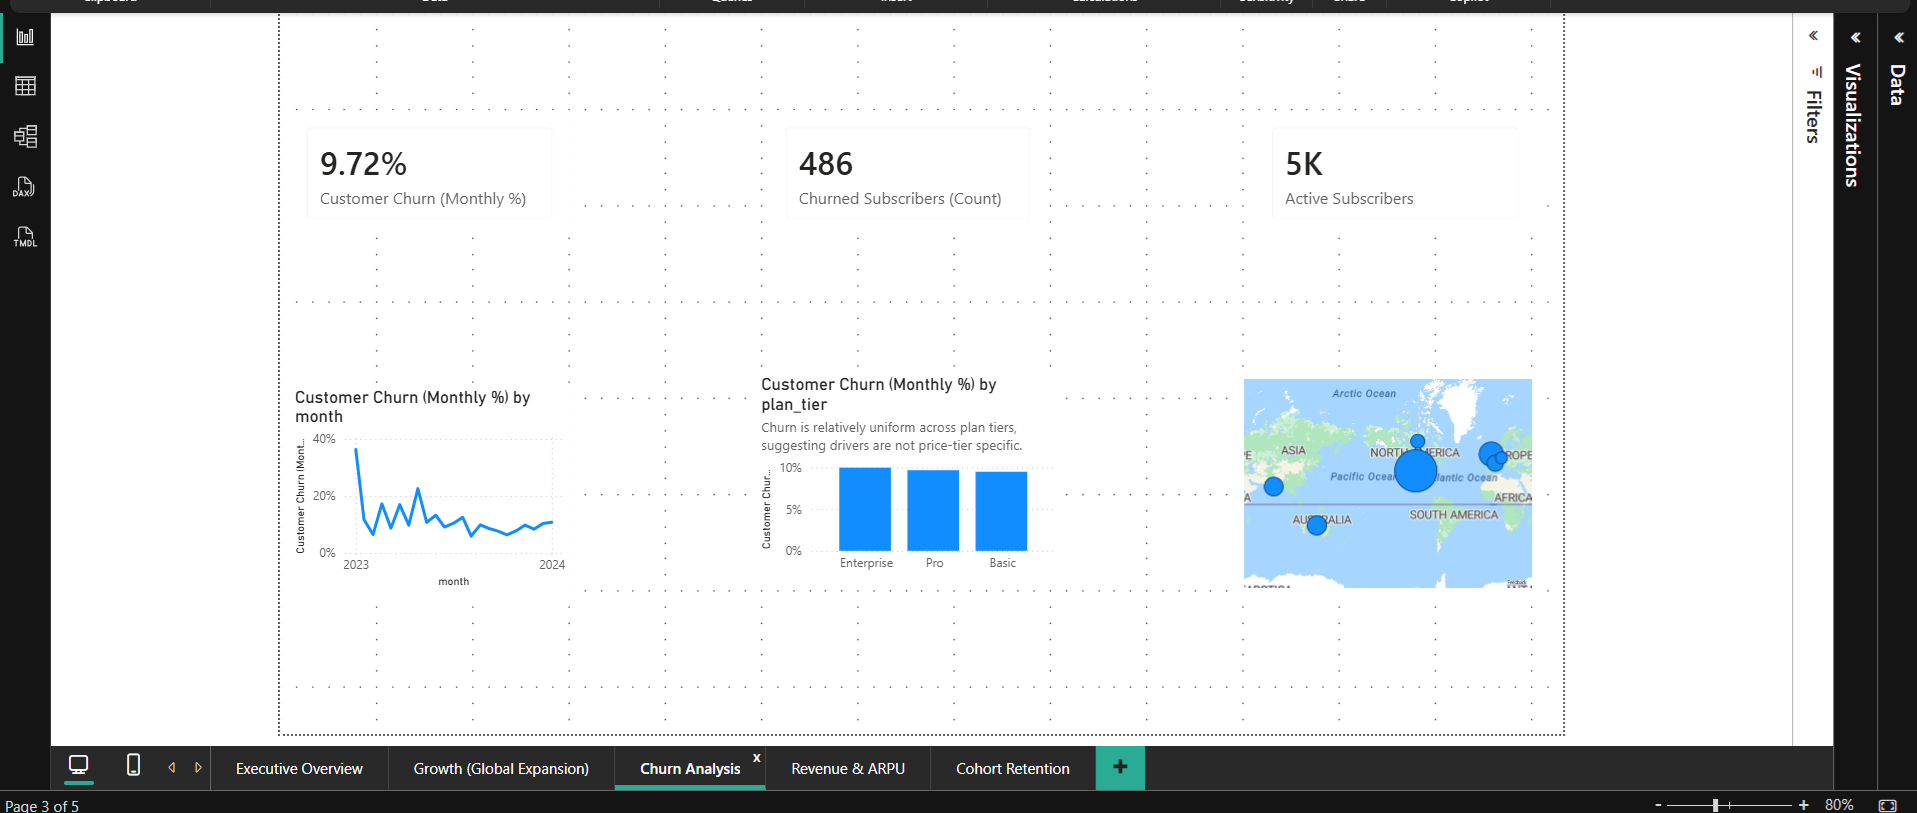

Layout of this report page (visuals, bound fields, positions):
{"tool":"powerbi","page":{"name":"Churn Analysis","canvas":[1280,720],"ordinal":2},"visuals":[{"type":"cardVisual","fields":{"Data":["subscriptions_enriched.Churn Rate (True %)"]},"box":[10,97.2,279.3,125.9],"z":1000},{"type":"cardVisual","fields":{"Data":["subscriptions_enriched.Churned Subscribers (Count)"]},"box":[487.5,97.2,278,125.9],"z":2000},{"type":"cardVisual","fields":{"Data":["subscriptions_enriched.Active Subscribers"]},"box":[972.5,97.2,280.5,125.9],"z":3000},{"type":"lineChart","fields":{"Y":["subscriptions_enriched.Churn Rate (True %)"],"Category":["subscriptions_enriched.month"]},"box":[10,372.8,279.3,205.7],"z":4000},{"type":"clusteredColumnChart","fields":{"Category":["subscriptions_enriched.plan_tier"],"Y":["subscriptions_enriched.Churn Rate (True %)"]},"box":[475,360.3,305.5,205.7],"z":5000},{"type":"azureMap","fields":{"Category":["subscriptions_enriched.country"],"Size":["subscriptions_enriched.Churned Subscribers (Count)"]},"box":[956.3,360.3,296.7,218.2],"z":6000}]}

Visuals, with their boxes on the page's 1280x720 design canvas (x1, y1, x2, y2). These are canvas units, not pixel positions in the 1917x813 screenshot, which may show the page scaled, cropped or inside an application window:
cardVisual - subscriptions_enriched.Churn Rate (True %): box=[10, 97, 289, 223]
cardVisual - subscriptions_enriched.Churned Subscribers (Count): box=[488, 97, 766, 223]
cardVisual - subscriptions_enriched.Active Subscribers: box=[972, 97, 1253, 223]
lineChart - subscriptions_enriched.Churn Rate (True %) x subscriptions_enriched.month: box=[10, 373, 289, 578]
clusteredColumnChart - subscriptions_enriched.plan_tier x subscriptions_enriched.Churn Rate (True %): box=[475, 360, 780, 566]
azureMap - subscriptions_enriched.country x subscriptions_enriched.Churned Subscribers (Count): box=[956, 360, 1253, 578]
